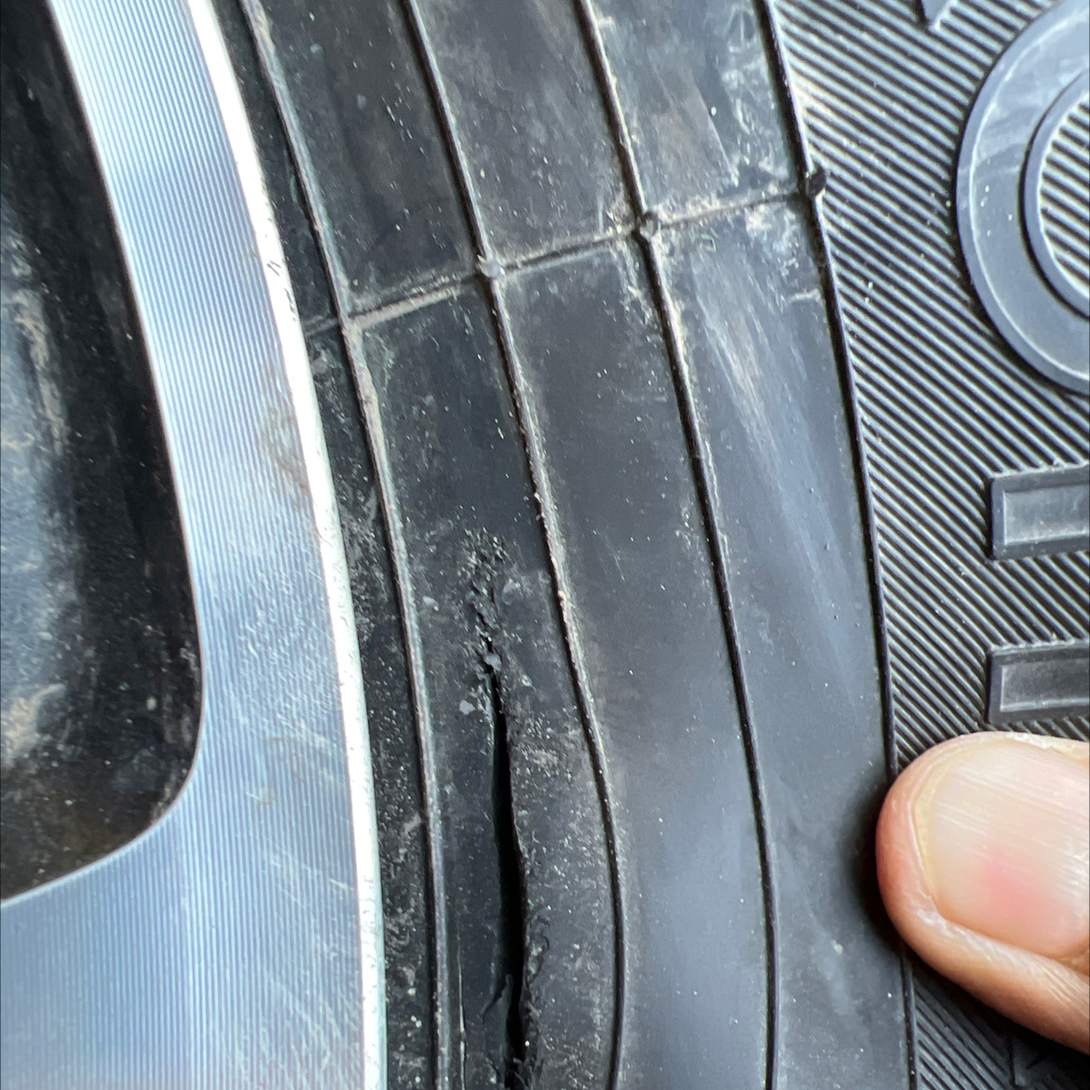cut: (449, 526, 558, 1089)
